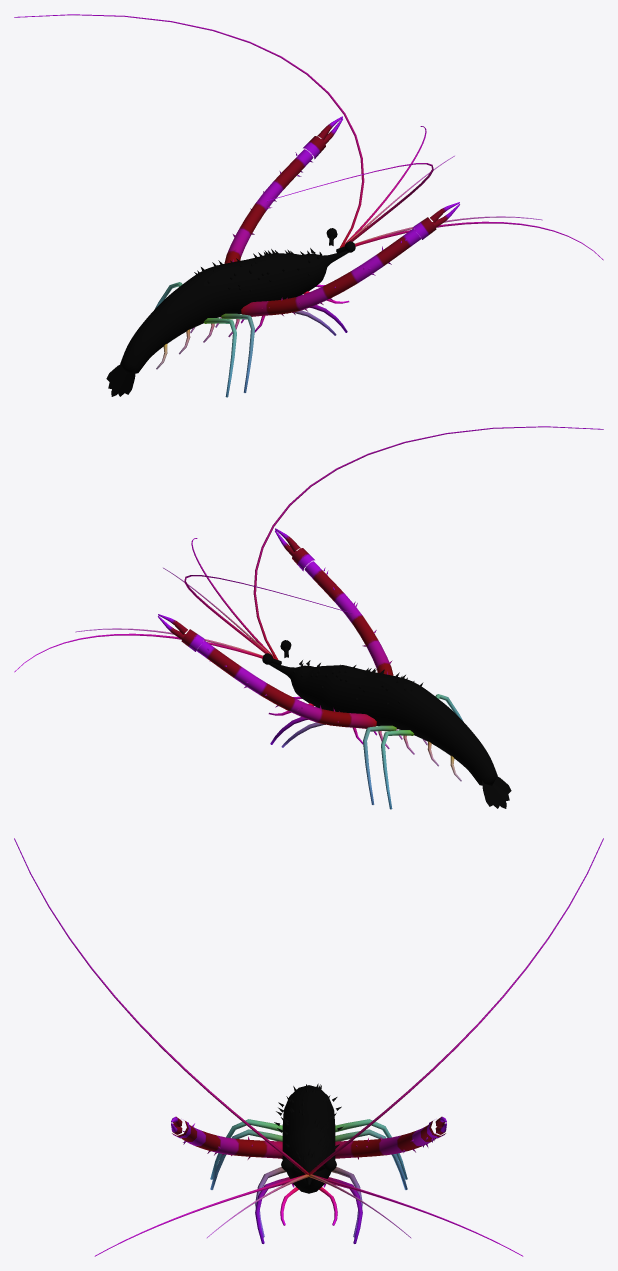
Rendered from shrimp.glb.
The picture shows the model from 3 angles, top to bottom: view 1: azimuth 30°, elevation 25°; view 2: azimuth 150°, elevation 25°; view 3: azimuth 270°, elevation 25°; orthographic projection. The views are drawn at different scales.
Visible parts, largest first — view 1: Body, Claws, Antennae, Legs; view 2: Body, Claws, Antennae, Legs; view 3: Body, Claws, Antennae, Legs.
Boxes of the visible parts, bbox=[...] form: Body: bbox=[106, 248, 348, 396]; Claws: bbox=[224, 116, 459, 316]; Antennae: bbox=[14, 14, 603, 260]; Legs: bbox=[155, 282, 349, 397]; Body: bbox=[269, 660, 511, 808]; Claws: bbox=[158, 528, 393, 728]; Antennae: bbox=[14, 426, 603, 672]; Legs: bbox=[268, 694, 462, 809]; Body: bbox=[274, 1083, 343, 1193]; Claws: bbox=[171, 1116, 446, 1159]; Antennae: bbox=[14, 838, 603, 1256]; Legs: bbox=[210, 1119, 407, 1243].
Size of the model in its own units: 1.61 by 1.08 by 1.75.
Materials: 2 (1 with a texture image).
